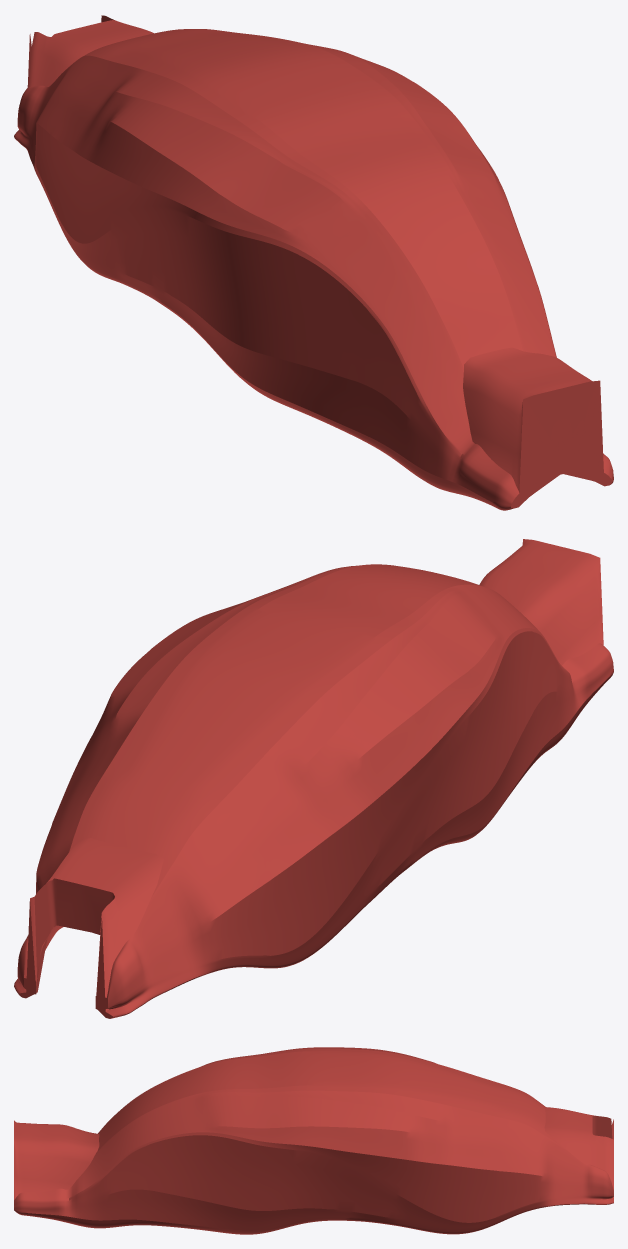
Rendered from sports_tourer_4.glb.
3 renders of one model, top to bottom at view 1: azimuth 30°, elevation 25°; view 2: azimuth 150°, elevation 25°; view 3: azimuth 270°, elevation 25°, orthographic. The views are drawn at different scales.
Visible parts, largest first — view 1: lod0; view 2: lod0; view 3: lod0.
Boxes of the visible parts, x1=… form: lod0: x1=14, y1=15, x2=613, y2=510; lod0: x1=14, y1=539, x2=613, y2=1018; lod0: x1=14, y1=1047, x2=613, y2=1234.
Size of what is drawn, in the model's own units: 0.4401 by 0.3369 by 1.29.
